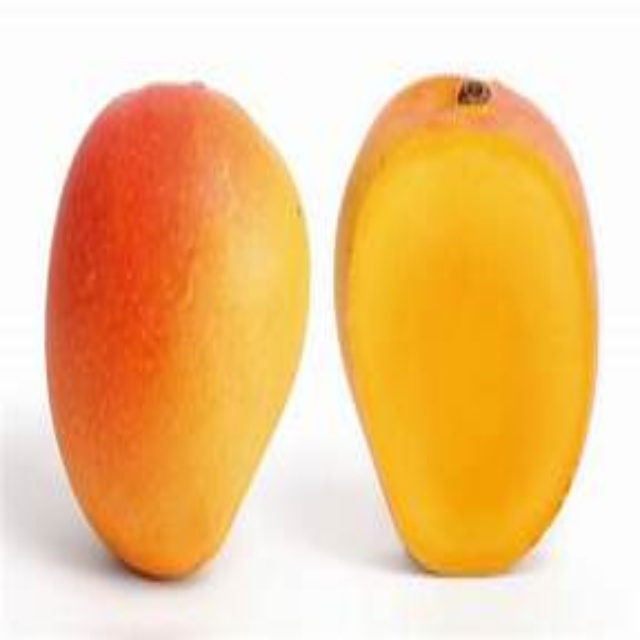mango: (338, 67, 596, 578), (45, 82, 304, 582)
